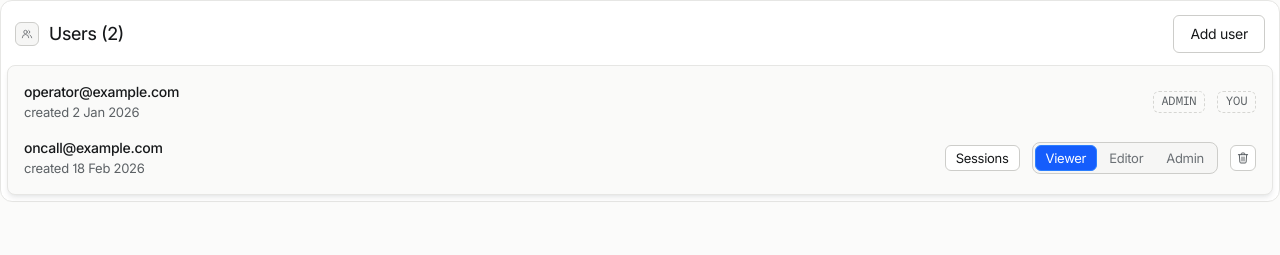
Test: changes a role only when the change is saved
Expected: the element named "Role for oncall@example.com" is shown, [1032,142,1218,174]
Click the button "Editor".
click(1126, 158)  # box [1098,145,1154,171]
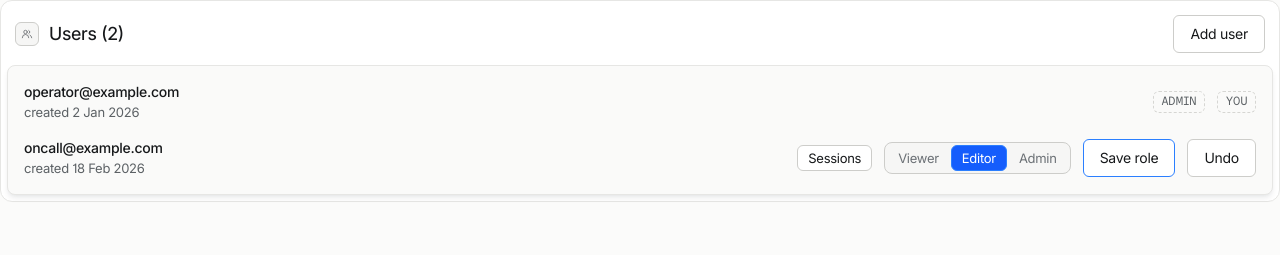
Expected: the button "Editor" is shown, [951,145,1007,171]
Click the button with aria-label "Save role for oncall@example.com".
click(1129, 158)  # box [1083,139,1175,177]
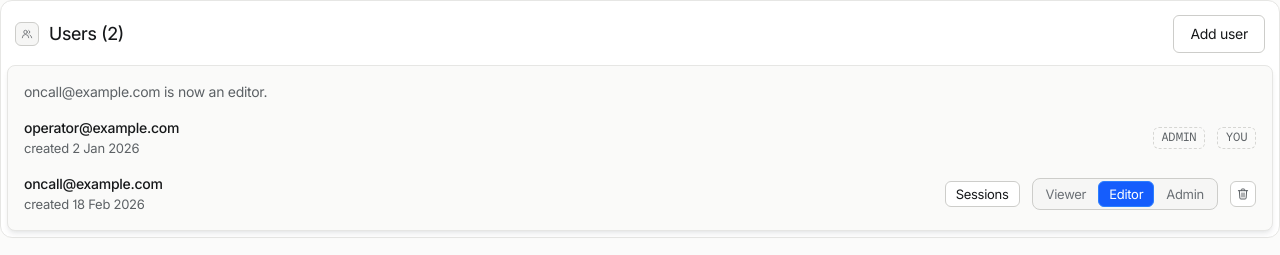
Expected: the button "Editor" is shown, [1098,181,1154,207]
Now the text "oncall@example.com is now an editor." is shown, box [24,83,267,100]
